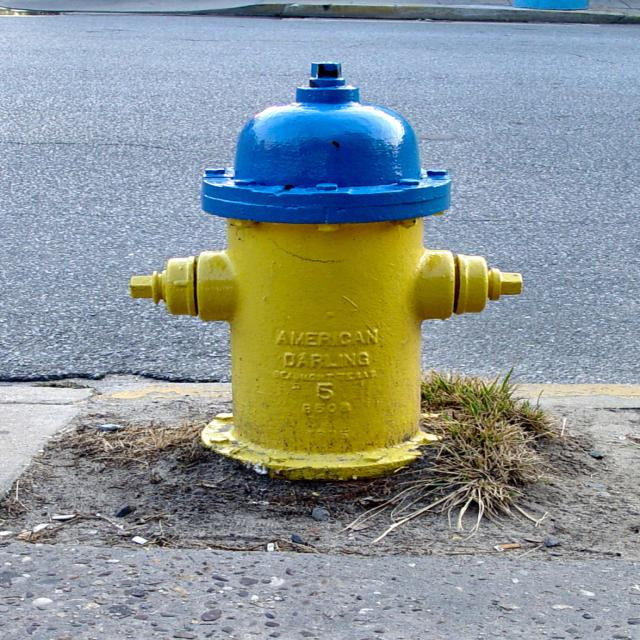fire_hydrant: (129, 65, 522, 475)
